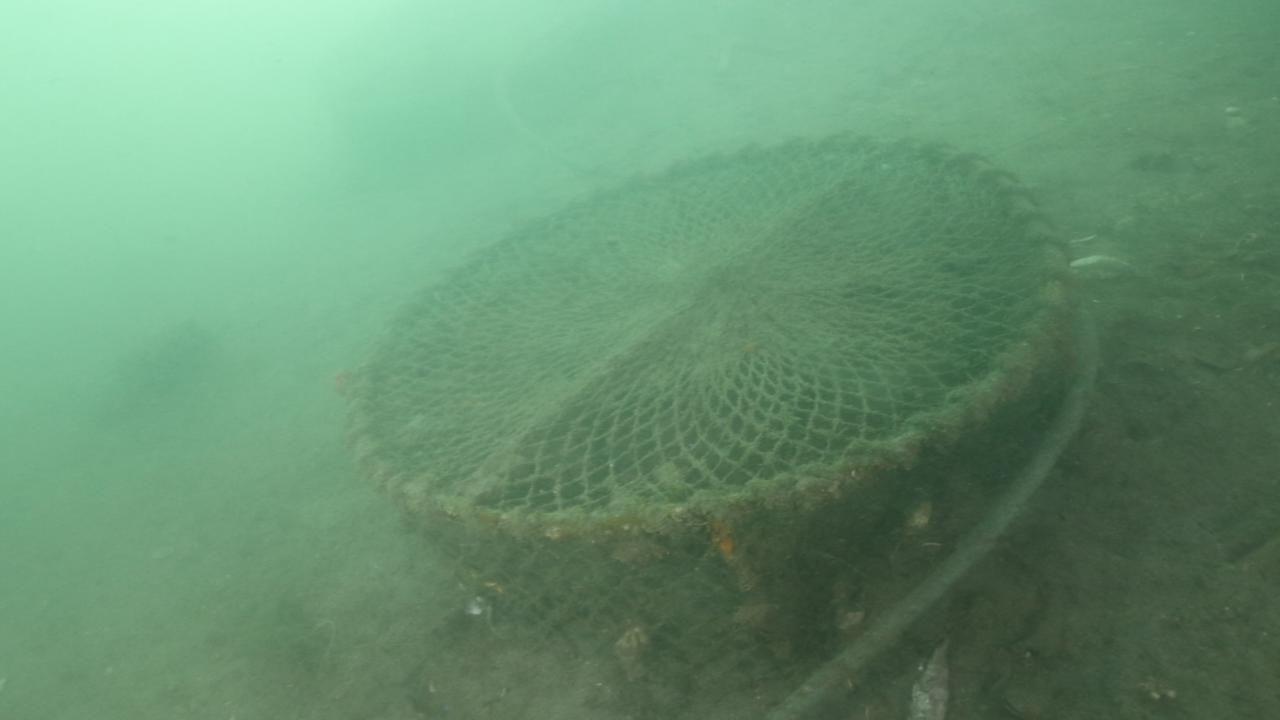circular fish trap: (350, 129, 1072, 674)
